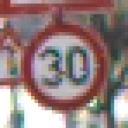speed_limit_30: (21, 22, 110, 114)
